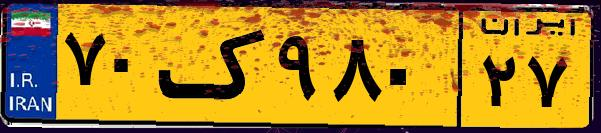0: (385, 28, 445, 110), (110, 28, 158, 98)
2: (475, 38, 525, 113)
7: (57, 26, 110, 100), (525, 38, 570, 115)
8: (330, 28, 385, 110)
9: (270, 28, 330, 110)
ک: (158, 12, 270, 120)
